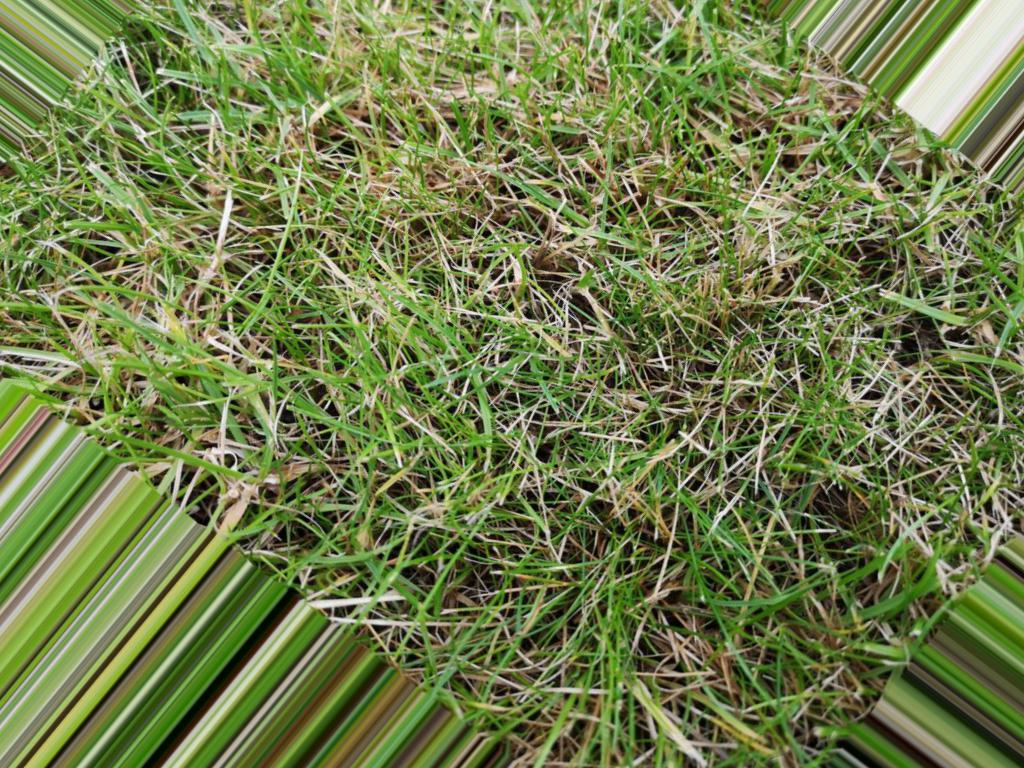patch: (741, 200, 795, 250)
